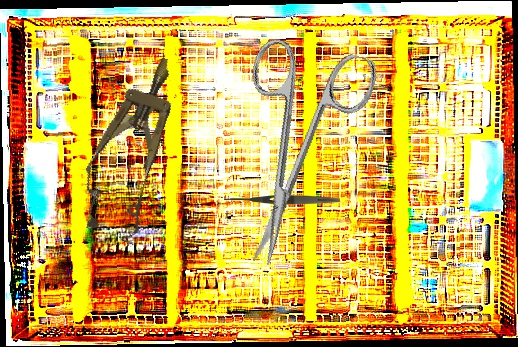Dressing Forceps: (224, 195, 340, 205)
Iris Scissors: (199, 27, 381, 280)
Speculum: (67, 46, 200, 246)
